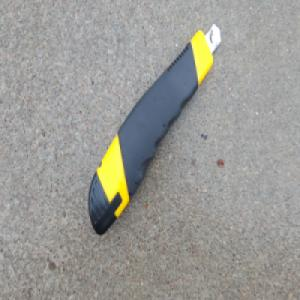Cutter: (87, 22, 223, 237)
